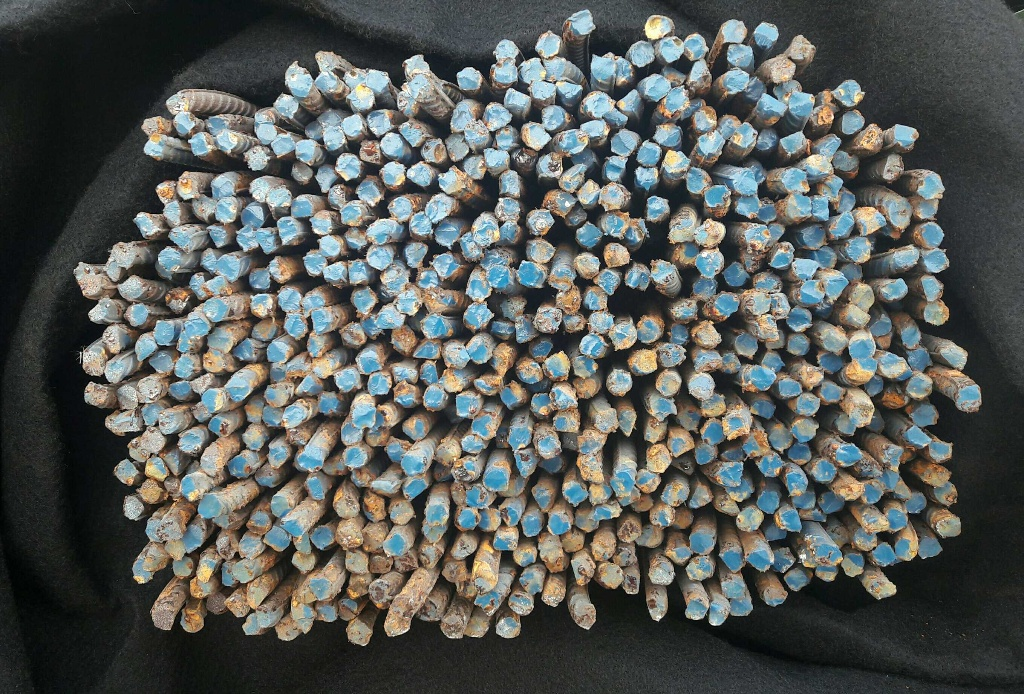dipstick: (354, 175, 384, 205), (599, 182, 630, 210), (607, 321, 637, 349), (591, 54, 619, 84), (583, 91, 614, 118), (832, 79, 863, 106), (406, 71, 435, 99), (503, 88, 532, 116), (470, 217, 499, 245), (696, 249, 725, 277), (366, 218, 393, 247), (482, 102, 511, 129), (533, 307, 562, 334), (522, 121, 549, 150), (425, 194, 455, 220), (887, 198, 912, 229), (391, 325, 417, 354), (467, 334, 493, 363), (662, 86, 687, 116), (823, 270, 847, 301), (354, 349, 381, 376), (438, 167, 465, 194), (560, 164, 587, 191), (367, 108, 393, 136), (393, 382, 421, 408), (464, 301, 490, 329), (500, 294, 526, 322), (857, 208, 885, 234), (111, 243, 140, 268), (513, 315, 538, 344), (399, 121, 426, 147), (346, 619, 372, 646), (578, 457, 604, 484), (685, 167, 711, 194), (783, 167, 809, 194), (134, 212, 162, 237), (173, 353, 201, 378), (534, 32, 562, 57), (629, 349, 657, 374), (547, 191, 575, 216), (813, 544, 841, 569), (118, 274, 144, 300), (352, 287, 378, 313), (517, 261, 543, 287), (500, 380, 526, 406), (335, 153, 362, 178), (379, 161, 406, 186), (168, 227, 195, 252), (402, 242, 429, 267), (103, 326, 130, 351), (335, 524, 362, 549), (484, 146, 509, 173), (517, 358, 542, 385), (607, 369, 632, 396), (475, 590, 502, 615), (698, 131, 725, 156), (745, 225, 772, 250), (786, 194, 811, 221), (816, 172, 843, 197), (822, 326, 847, 353), (176, 172, 200, 200), (223, 376, 251, 400), (526, 210, 554, 234), (545, 352, 569, 380), (657, 342, 685, 366), (647, 444, 670, 473), (840, 304, 869, 327), (387, 197, 413, 222), (114, 459, 139, 485), (512, 541, 538, 566), (637, 523, 663, 548), (696, 221, 722, 246), (637, 140, 662, 166), (724, 67, 749, 93), (732, 122, 757, 148), (808, 155, 833, 181), (846, 236, 871, 262), (409, 212, 433, 239), (153, 320, 177, 347), (84, 382, 111, 406), (370, 580, 394, 607), (432, 254, 459, 278), (581, 334, 608, 358), (603, 212, 630, 236), (581, 121, 608, 145), (736, 507, 763, 531), (785, 567, 812, 591), (645, 197, 669, 224), (754, 21, 778, 48), (801, 224, 828, 248), (848, 358, 875, 382), (910, 402, 937, 426), (406, 162, 434, 185), (375, 304, 403, 327), (446, 133, 469, 161), (519, 59, 547, 82), (560, 131, 588, 154), (611, 131, 639, 154), (670, 299, 698, 322), (381, 133, 406, 158), (422, 139, 447, 164), (368, 245, 393, 270), (80, 351, 105, 376), (152, 604, 177, 629), (387, 437, 412, 462), (423, 386, 448, 411), (570, 9, 595, 34), (577, 223, 602, 248), (590, 535, 615, 560), (656, 371, 681, 396), (542, 105, 567, 130), (688, 374, 713, 399), (750, 365, 775, 390), (693, 276, 718, 301), (691, 107, 716, 132), (907, 348, 932, 373), (955, 387, 980, 412), (923, 301, 948, 326), (347, 85, 373, 109), (163, 202, 189, 226), (384, 612, 410, 636), (361, 496, 385, 522), (498, 171, 522, 197), (465, 277, 491, 301), (575, 253, 599, 279), (604, 243, 630, 267), (456, 392, 480, 418), (570, 557, 594, 583), (541, 548, 567, 572), (716, 461, 742, 485), (871, 542, 897, 566), (645, 74, 669, 100), (659, 36, 683, 62), (491, 60, 518, 83), (550, 386, 577, 409), (500, 500, 523, 527), (639, 316, 662, 343), (685, 557, 712, 580), (682, 34, 705, 61), (734, 168, 757, 195), (851, 285, 874, 312), (654, 124, 682, 146), (644, 16, 672, 38), (274, 94, 299, 118), (269, 256, 294, 280), (217, 255, 241, 280), (141, 429, 166, 453), (225, 593, 250, 617), (444, 345, 469, 369), (486, 264, 511, 288), (594, 409, 618, 434), (536, 434, 561, 458), (611, 473, 635, 498), (625, 264, 649, 289), (538, 153, 563, 177), (578, 430, 602, 455), (724, 413, 748, 438), (630, 41, 654, 66), (721, 19, 746, 43), (771, 57, 795, 82), (789, 36, 814, 60), (919, 173, 944, 197), (908, 374, 932, 399), (324, 262, 347, 288), (264, 525, 287, 551), (418, 544, 444, 567), (494, 126, 520, 149), (494, 198, 520, 221), (594, 271, 620, 294), (835, 443, 861, 466), (727, 43, 753, 66), (919, 223, 942, 249), (941, 347, 967, 370), (87, 299, 114, 321), (475, 373, 502, 395), (606, 156, 628, 183), (920, 276, 942, 303), (277, 218, 298, 246), (660, 485, 688, 506), (922, 466, 951, 486), (322, 127, 346, 151), (214, 198, 238, 222), (434, 221, 458, 245), (250, 293, 274, 317), (266, 444, 290, 468), (472, 415, 496, 439), (850, 401, 874, 425), (714, 291, 738, 315), (189, 133, 214, 156), (271, 133, 296, 156), (284, 313, 307, 338), (350, 404, 375, 427), (198, 494, 223, 517), (421, 314, 446, 337), (529, 239, 554, 262), (455, 508, 480, 531), (573, 603, 596, 628), (556, 81, 581, 104), (789, 91, 814, 114), (816, 135, 841, 158), (144, 136, 170, 158), (314, 70, 340, 92), (295, 140, 321, 162), (343, 228, 369, 250), (202, 300, 228, 322), (333, 496, 359, 518), (342, 445, 368, 467), (549, 269, 575, 291), (562, 483, 588, 505), (695, 326, 721, 348), (817, 352, 843, 374), (663, 152, 689, 174), (891, 124, 917, 146), (211, 175, 238, 196), (557, 531, 584, 552), (860, 511, 887, 532), (755, 272, 782, 293), (880, 279, 907, 300), (863, 124, 883, 152), (254, 122, 278, 145), (287, 73, 311, 96), (366, 70, 389, 94), (458, 67, 481, 91), (311, 211, 334, 235), (303, 253, 327, 276), (278, 288, 301, 312), (166, 290, 189, 314), (134, 336, 157, 360), (243, 427, 266, 451), (138, 480, 162, 503), (391, 500, 414, 524), (441, 615, 464, 639), (575, 507, 598, 531), (650, 504, 674, 527), (669, 434, 692, 458), (644, 419, 668, 442), (854, 528, 877, 552), (860, 479, 884, 502), (787, 308, 811, 331), (717, 116, 741, 139), (841, 110, 865, 133), (799, 281, 823, 304), (184, 525, 203, 554), (244, 145, 266, 170), (137, 379, 162, 401), (367, 372, 392, 394), (228, 456, 253, 478), (246, 512, 271, 534), (423, 505, 448, 527), (556, 289, 581, 311), (573, 356, 598, 378), (483, 468, 508, 490), (648, 562, 673, 584), (635, 470, 660, 492), (913, 196, 938, 218), (832, 212, 854, 237), (936, 482, 958, 507), (307, 579, 333, 600), (402, 479, 428, 500), (402, 418, 428, 439), (533, 485, 554, 511), (519, 571, 545, 592), (688, 533, 714, 554), (883, 153, 904, 179), (936, 516, 962, 537), (695, 352, 722, 372), (341, 115, 364, 138), (203, 350, 226, 373), (145, 458, 168, 481), (418, 599, 441, 622), (617, 519, 640, 542), (702, 422, 725, 445), (778, 510, 801, 533), (812, 459, 835, 482), (724, 263, 747, 286), (737, 195, 760, 218), (770, 244, 793, 267), (327, 185, 349, 209), (342, 202, 364, 226), (311, 309, 335, 331), (157, 248, 181, 270), (125, 305, 149, 327), (334, 369, 358, 391), (239, 536, 263, 558), (466, 121, 488, 145), (600, 566, 624, 588), (651, 260, 675, 282), (684, 597, 708, 619), (693, 443, 717, 465), (735, 333, 757, 357), (841, 554, 865, 576), (884, 509, 908, 531), (747, 291, 769, 315), (834, 149, 858, 171), (905, 426, 929, 448), (894, 248, 918, 270), (166, 93, 191, 114), (178, 433, 203, 454), (588, 312, 613, 333), (493, 530, 518, 551), (651, 397, 676, 418), (442, 562, 467, 583), (751, 397, 776, 418), (772, 548, 793, 573), (820, 382, 845, 403), (762, 92, 787, 113), (779, 131, 804, 152), (422, 522, 448, 542), (452, 460, 478, 480), (791, 421, 817, 441), (268, 186, 291, 208), (254, 231, 277, 253), (117, 386, 139, 409), (283, 405, 306, 427), (181, 609, 204, 631), (232, 560, 254, 583), (271, 494, 293, 517), (346, 552, 368, 575), (340, 423, 363, 445), (584, 288, 607, 310), (531, 392, 553, 415), (521, 513, 543, 536), (543, 584, 565, 607), (646, 597, 668, 620), (701, 394, 724, 416), (757, 491, 779, 514), (785, 472, 807, 495), (894, 538, 916, 561), (800, 366, 823, 388), (671, 219, 693, 242), (618, 89, 640, 112), (870, 315, 892, 338), (318, 237, 342, 258), (149, 352, 173, 373), (157, 411, 181, 432), (341, 324, 362, 348), (264, 385, 288, 406), (509, 594, 533, 615), (758, 455, 782, 476), (666, 324, 690, 345), (705, 185, 729, 206), (758, 199, 779, 223), (850, 337, 874, 358), (496, 618, 521, 638), (795, 395, 820, 415), (747, 550, 772, 570), (817, 493, 843, 512), (316, 165, 338, 187), (251, 179, 273, 201), (104, 361, 126, 383), (311, 527, 333, 549), (435, 443, 457, 465), (453, 535, 475, 557), (788, 334, 810, 356), (832, 190, 854, 212), (929, 441, 951, 463), (241, 206, 264, 227), (156, 182, 179, 203), (202, 451, 223, 474), (158, 519, 181, 540), (292, 550, 315, 571), (415, 268, 438, 289), (465, 156, 486, 179), (495, 40, 518, 61), (499, 222, 520, 245), (508, 427, 531, 448), (547, 512, 570, 533), (680, 408, 701, 431), (266, 341, 290, 361), (132, 560, 152, 584), (314, 51, 338, 71), (709, 600, 729, 624), (763, 586, 787, 606), (401, 455, 426, 474), (720, 552, 745, 571), (214, 131, 236, 152), (203, 390, 225, 411), (124, 496, 145, 518), (142, 549, 164, 570), (171, 557, 193, 578), (315, 601, 337, 622), (746, 435, 768, 456), (771, 427, 792, 449), (919, 537, 941, 558), (905, 492, 926, 514), (289, 197, 312, 217), (298, 450, 321, 470), (128, 438, 148, 461), (305, 477, 325, 500), (369, 555, 392, 575), (384, 534, 407, 554), (277, 620, 300, 640), (869, 581, 896, 598), (296, 376, 320, 395), (884, 445, 902, 470), (474, 571, 495, 592), (175, 114, 197, 134), (835, 415, 857, 435), (344, 69, 367, 88), (404, 55, 428, 73), (636, 167, 660, 185), (813, 105, 831, 129), (262, 406, 283, 426), (337, 599, 357, 620), (789, 444, 810, 464), (762, 352, 783, 372), (900, 327, 920, 348), (291, 163, 313, 182), (207, 227, 229, 246), (243, 614, 265, 633), (730, 597, 752, 616), (777, 378, 799, 397), (563, 314, 587, 331), (142, 118, 167, 134), (302, 294, 323, 313), (667, 546, 690, 563), (257, 606, 278, 624), (689, 489, 710, 507), (866, 375, 884, 396)
